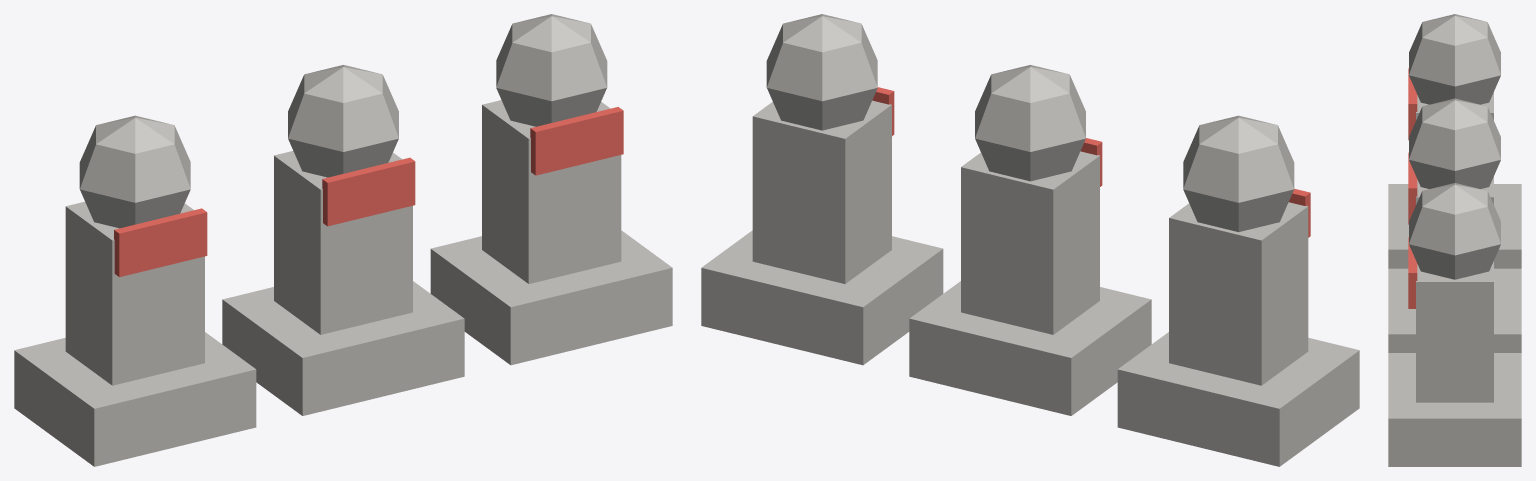
File: jizo_statue_trio.glb
The picture shows the model from 3 angles, left to right: view 1: azimuth 30°, elevation 25°; view 2: azimuth 150°, elevation 25°; view 3: azimuth 270°, elevation 25°; orthographic projection. The views are drawn at different scales.
Visible parts, largest first — view 1: jizo_statue_trio; view 2: jizo_statue_trio; view 3: jizo_statue_trio.
Boxes of the visible parts, box(x1,y1,x2,y2) form: jizo_statue_trio: box(14, 14, 672, 466); jizo_statue_trio: box(701, 14, 1359, 466); jizo_statue_trio: box(1388, 14, 1521, 466).
Size of the model in its own units: 2.5 by 1.24 by 0.6.
